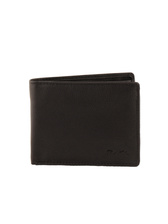other: (25, 73, 143, 173)
